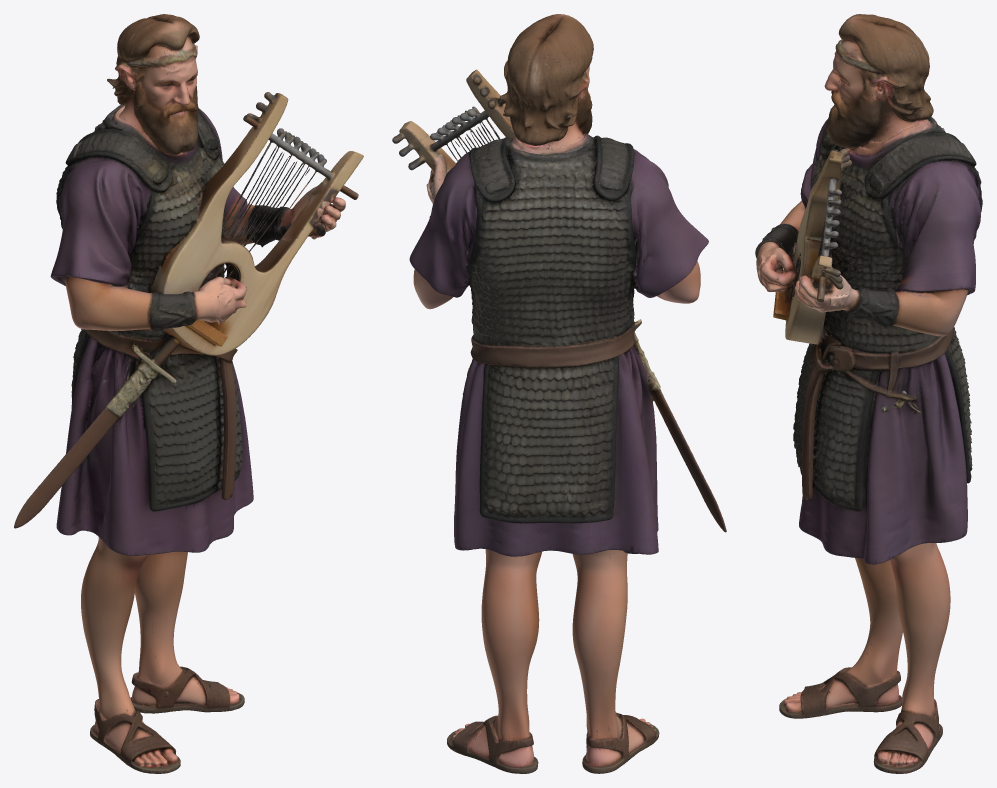
The model's file is Meshy_AI_Bard_in_Ancient_Fortr_0131193517_texture.glb.
3 views of the same model, side by side, from view 1: azimuth 30°, elevation 25°; view 2: azimuth 150°, elevation 25°; view 3: azimuth 270°, elevation 25° (orthographic). The views are drawn at different scales.
Size of the model in its own units: 0.9836 by 2 by 0.5778.
Materials: 1 (1 with a texture image).
